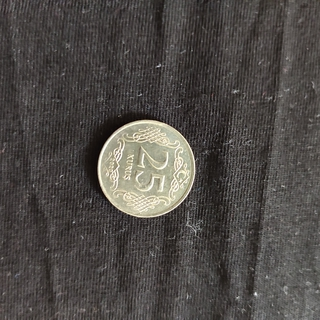25KURUS: (96, 118, 196, 219)
